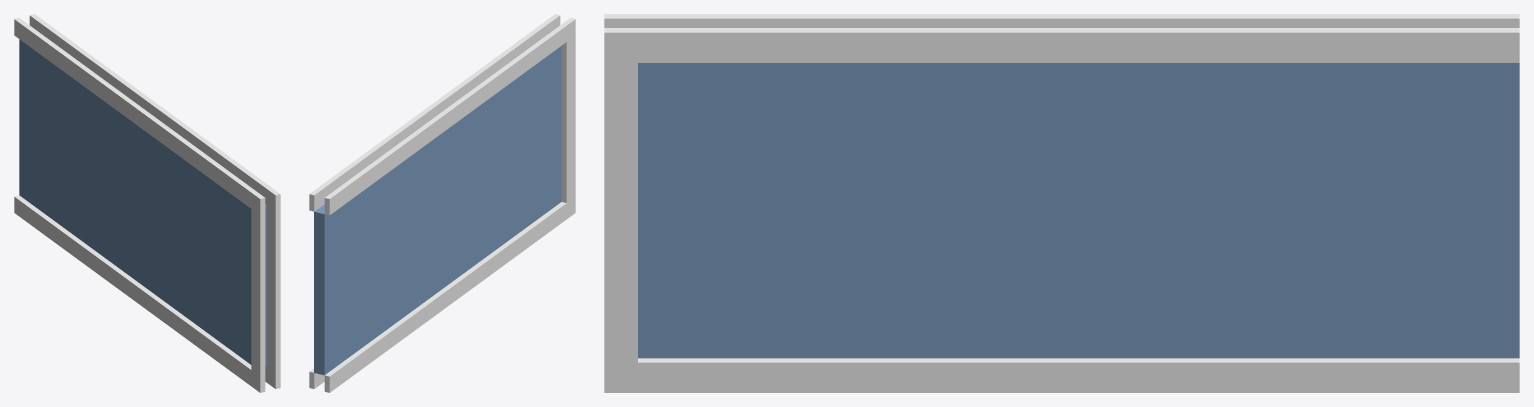
3 renders of one model, left to right at view 1: azimuth 30°, elevation 25°; view 2: azimuth 150°, elevation 25°; view 3: azimuth 270°, elevation 25°, orthographic. The views are drawn at different scales.
Parts seen in each view (by area): view 1: 0_3_1_2_1_3_1_0_2_2; view 2: 0_3_1_2_1_3_1_0_2_2; view 3: 0_3_1_2_1_3_1_0_2_2.
Part boxes in pixels (left/top/right/bottom): 0_3_1_2_1_3_1_0_2_2: left=14, top=14, right=280, bottom=392; 0_3_1_2_1_3_1_0_2_2: left=309, top=14, right=575, bottom=392; 0_3_1_2_1_3_1_0_2_2: left=604, top=14, right=1519, bottom=392.
Size of the model in its own units: 0.1 by 0.902 by 2.08.
